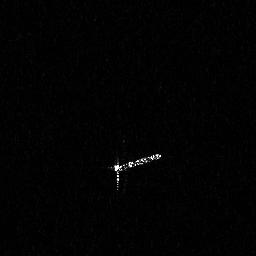ship: (106, 152, 163, 192)
